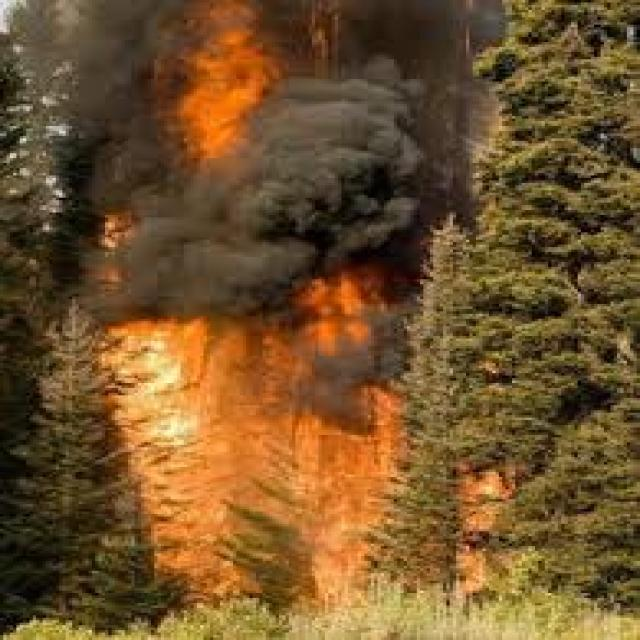Fire: (264, 71, 442, 296), (69, 148, 272, 293)
Smoke: (96, 299, 408, 553), (148, 1, 278, 149)
